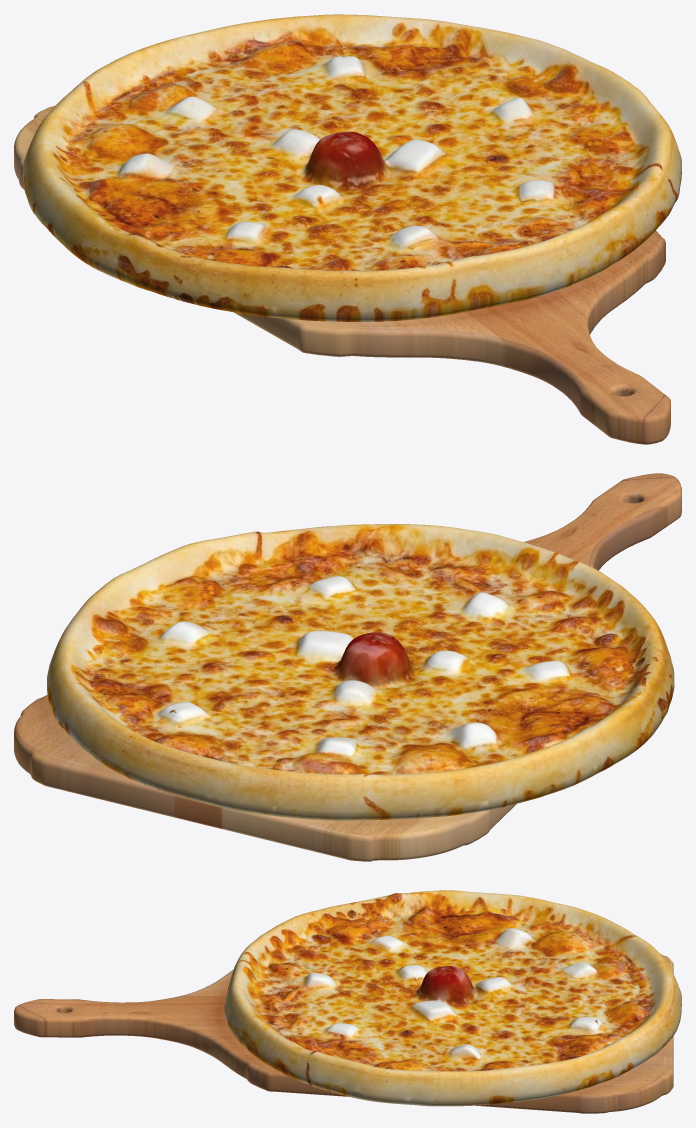
Rendered from pizza-margherita.glb.
3 renders of one model, top to bottom at view 1: azimuth 30°, elevation 25°; view 2: azimuth 150°, elevation 25°; view 3: azimuth 270°, elevation 25°, orthographic. The views are drawn at different scales.
Parts seen in each view (by area): view 1: pizza-margherita, peel; view 2: pizza-margherita, peel; view 3: pizza-margherita, peel.
Part boxes in pixels (x1,y1,x2,y2): pizza-margherita: (23, 14, 681, 321); peel: (14, 105, 670, 444); pizza-margherita: (47, 524, 674, 820); peel: (14, 473, 681, 861); pizza-margherita: (224, 890, 681, 1106); peel: (14, 953, 673, 1113).
Size of the model in its own units: 0.3001 by 0.0415 by 0.4374.
2 materials, 2 textured.
